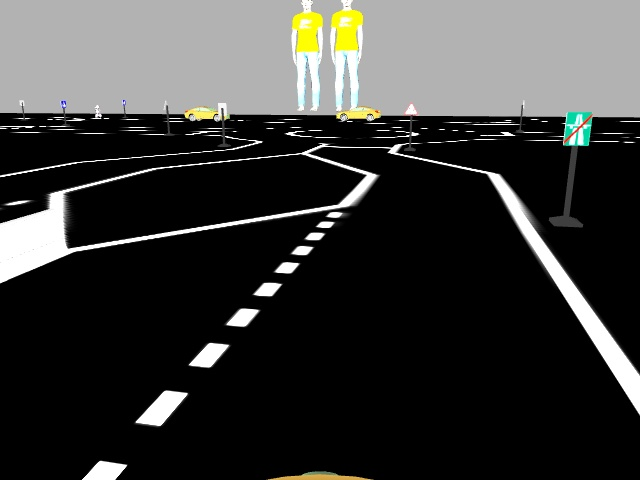HighwayExit: (562, 111, 593, 146)
